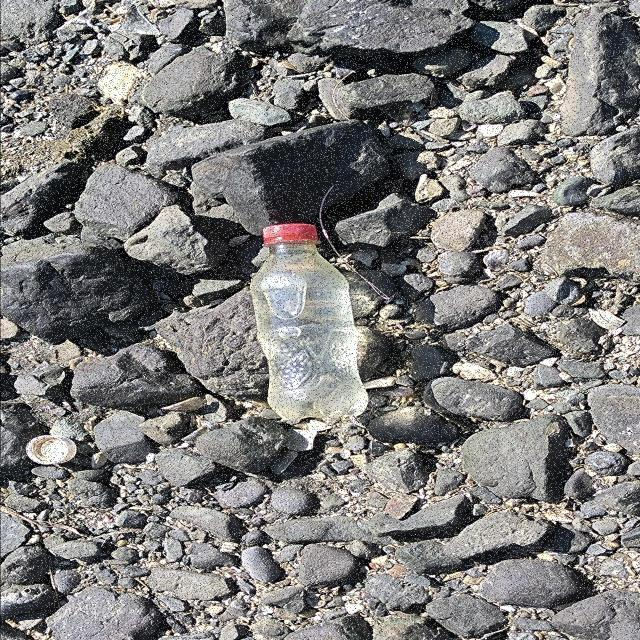plastic_waste: (248, 225, 369, 422), (28, 437, 75, 466)
